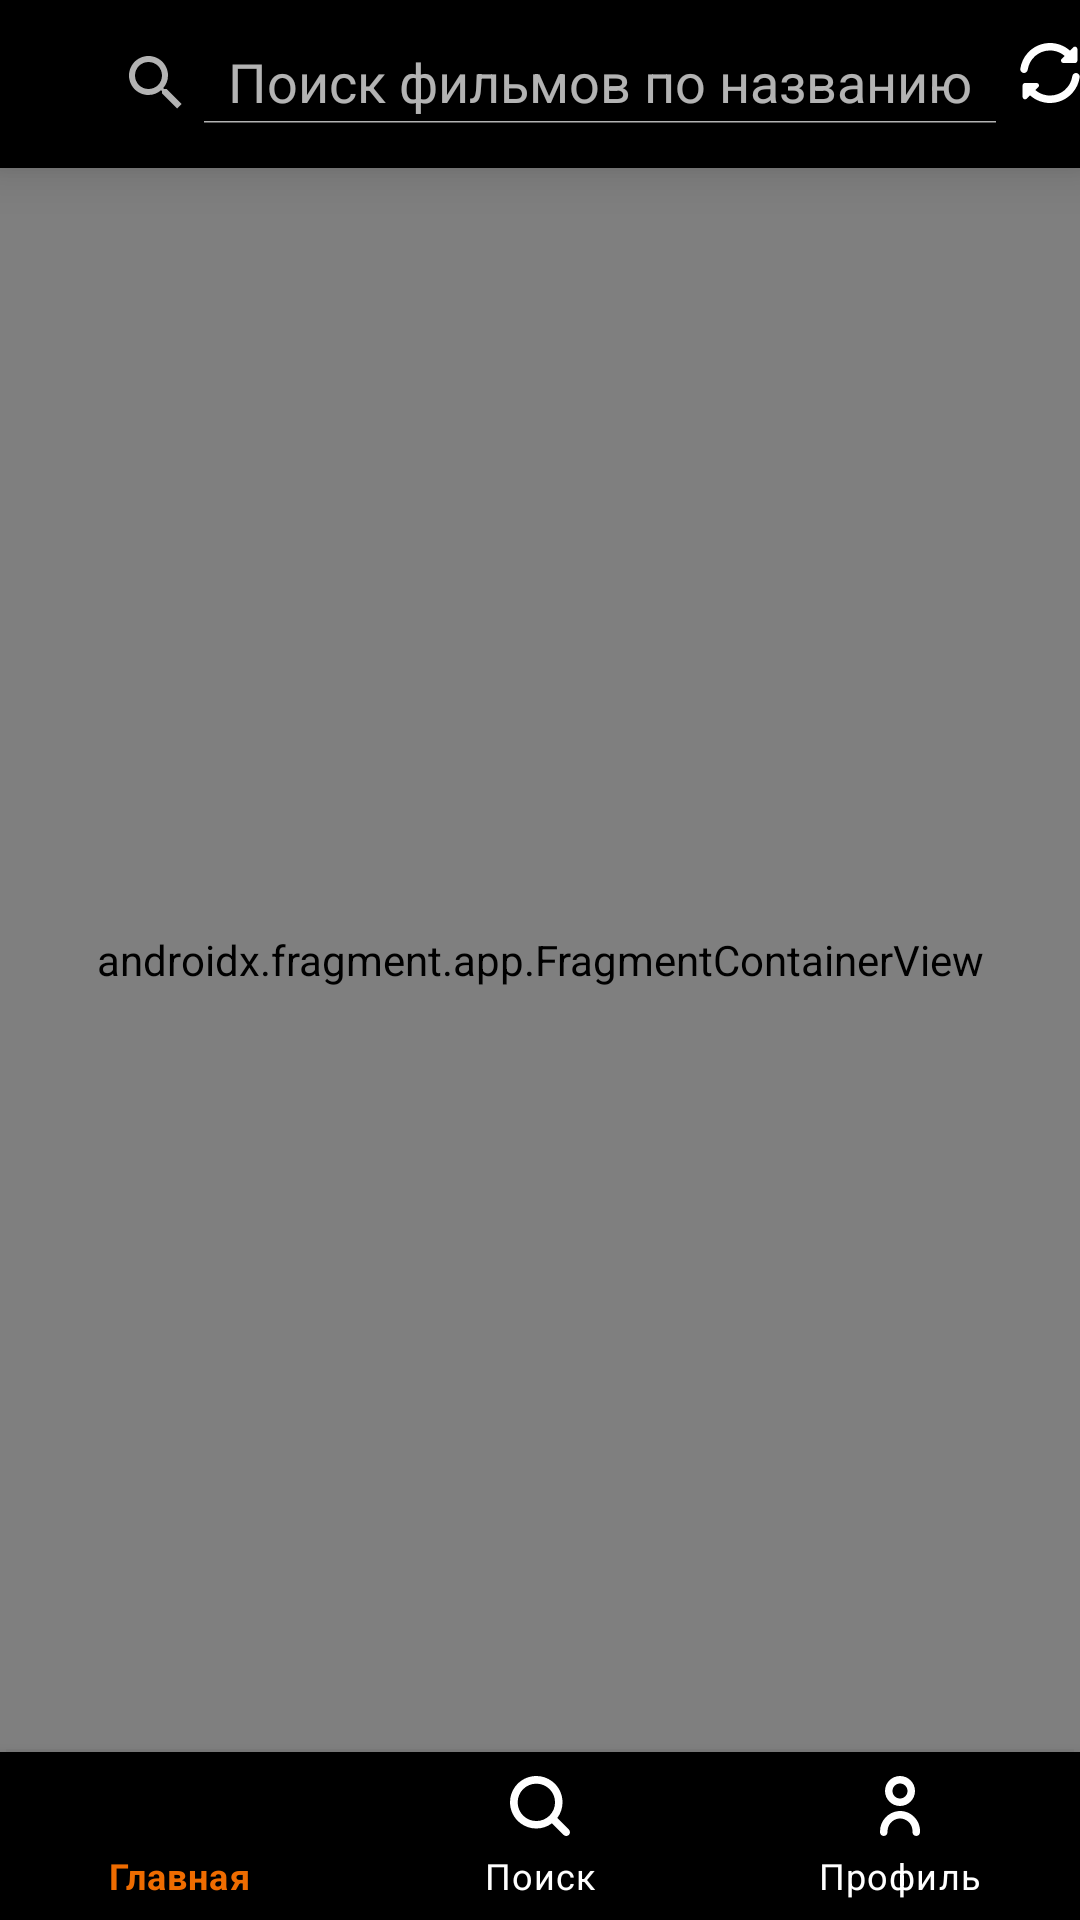

Where icons sit on this 1080 x 1920 app screen, as (x1, y1, x2, y2):
refresh: (1020, 43, 1080, 103)
